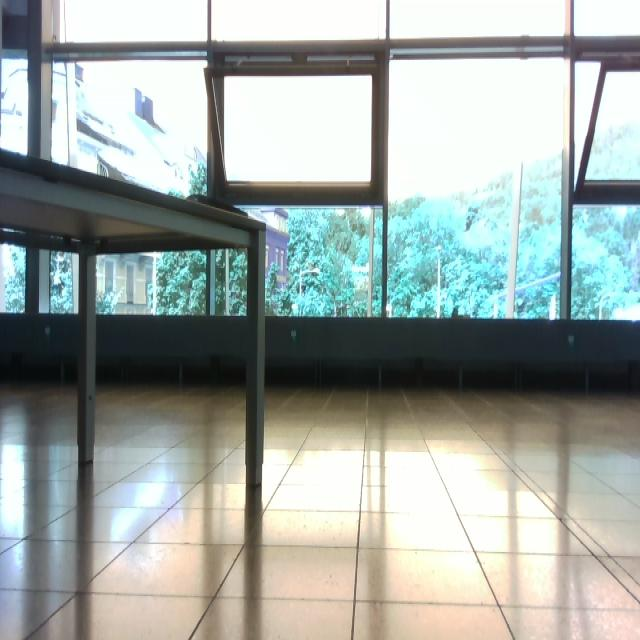door: (82, 241, 254, 484)
pillar: (76, 244, 97, 464)
tiled floor: (1, 382, 638, 638)
window: (0, 0, 639, 323)
